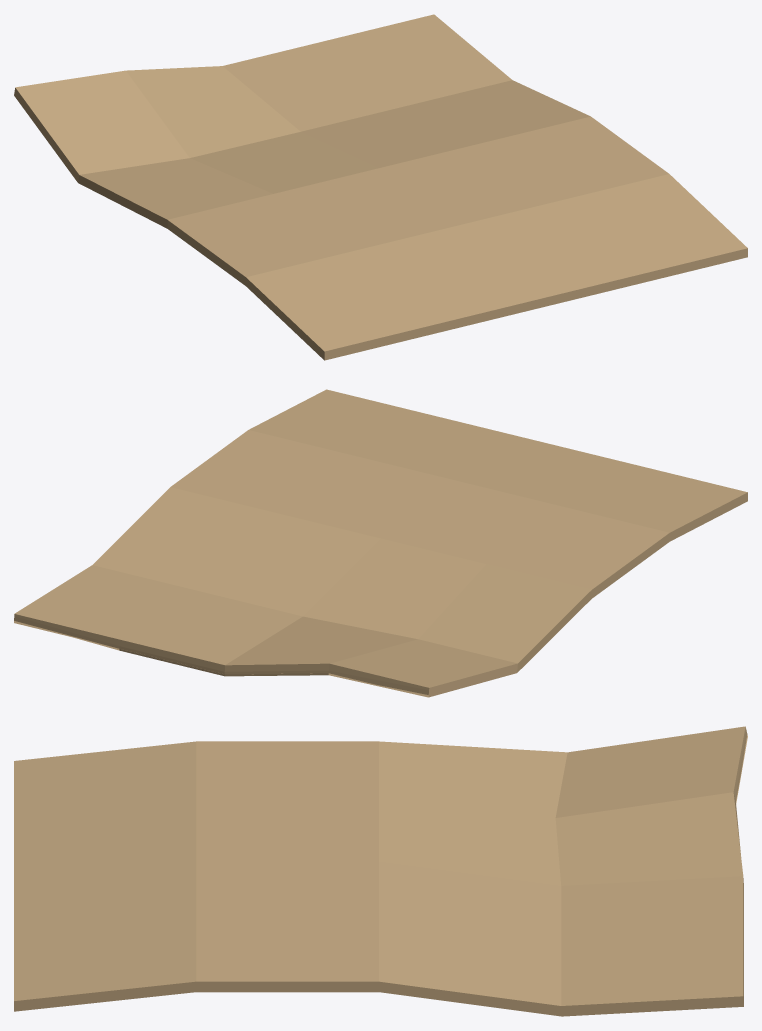
Rendered from Paper.fbx.
The picture shows the model from 3 angles, top to bottom: view 1: azimuth 30°, elevation 25°; view 2: azimuth 150°, elevation 25°; view 3: azimuth 270°, elevation 25°; orthographic projection. The views are drawn at different scales.
Parts seen in each view (by area): view 1: Cube; view 2: Cube; view 3: Cube.
Part boxes in pixels (x1=…): Cube: x1=14, y1=14, x2=747, y2=360; Cube: x1=14, y1=389, x2=747, y2=697; Cube: x1=14, y1=726, x2=747, y2=1016.
Bounding box in the file's own units: 95.43 × 9.68 × 121.
